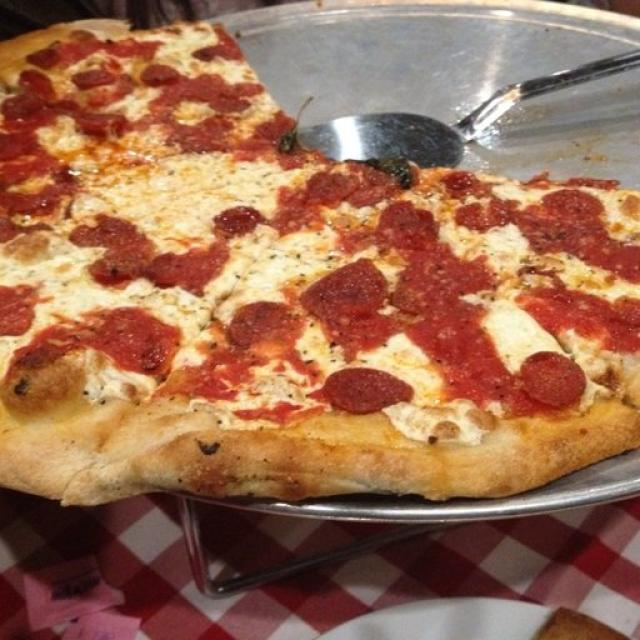Pepperoni: (303, 258, 384, 316), (327, 369, 415, 416), (84, 213, 143, 277), (520, 353, 580, 404), (230, 307, 302, 347), (152, 254, 218, 290), (544, 186, 602, 223), (0, 284, 32, 330), (214, 208, 263, 238), (46, 96, 88, 125), (78, 111, 125, 133), (146, 59, 178, 86), (217, 77, 262, 95), (6, 94, 41, 116), (76, 70, 115, 87), (1, 130, 26, 154), (27, 78, 51, 99), (213, 99, 244, 114)
Pizza: (0, 22, 640, 507)
